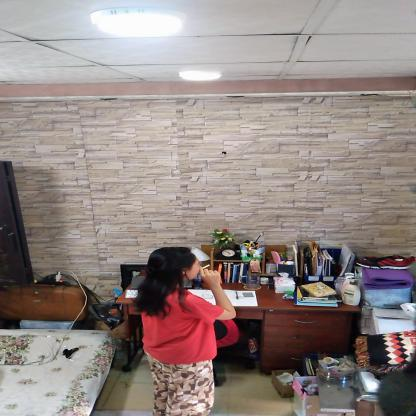cigarette: (202, 264, 211, 269)
person: (134, 246, 231, 415)
